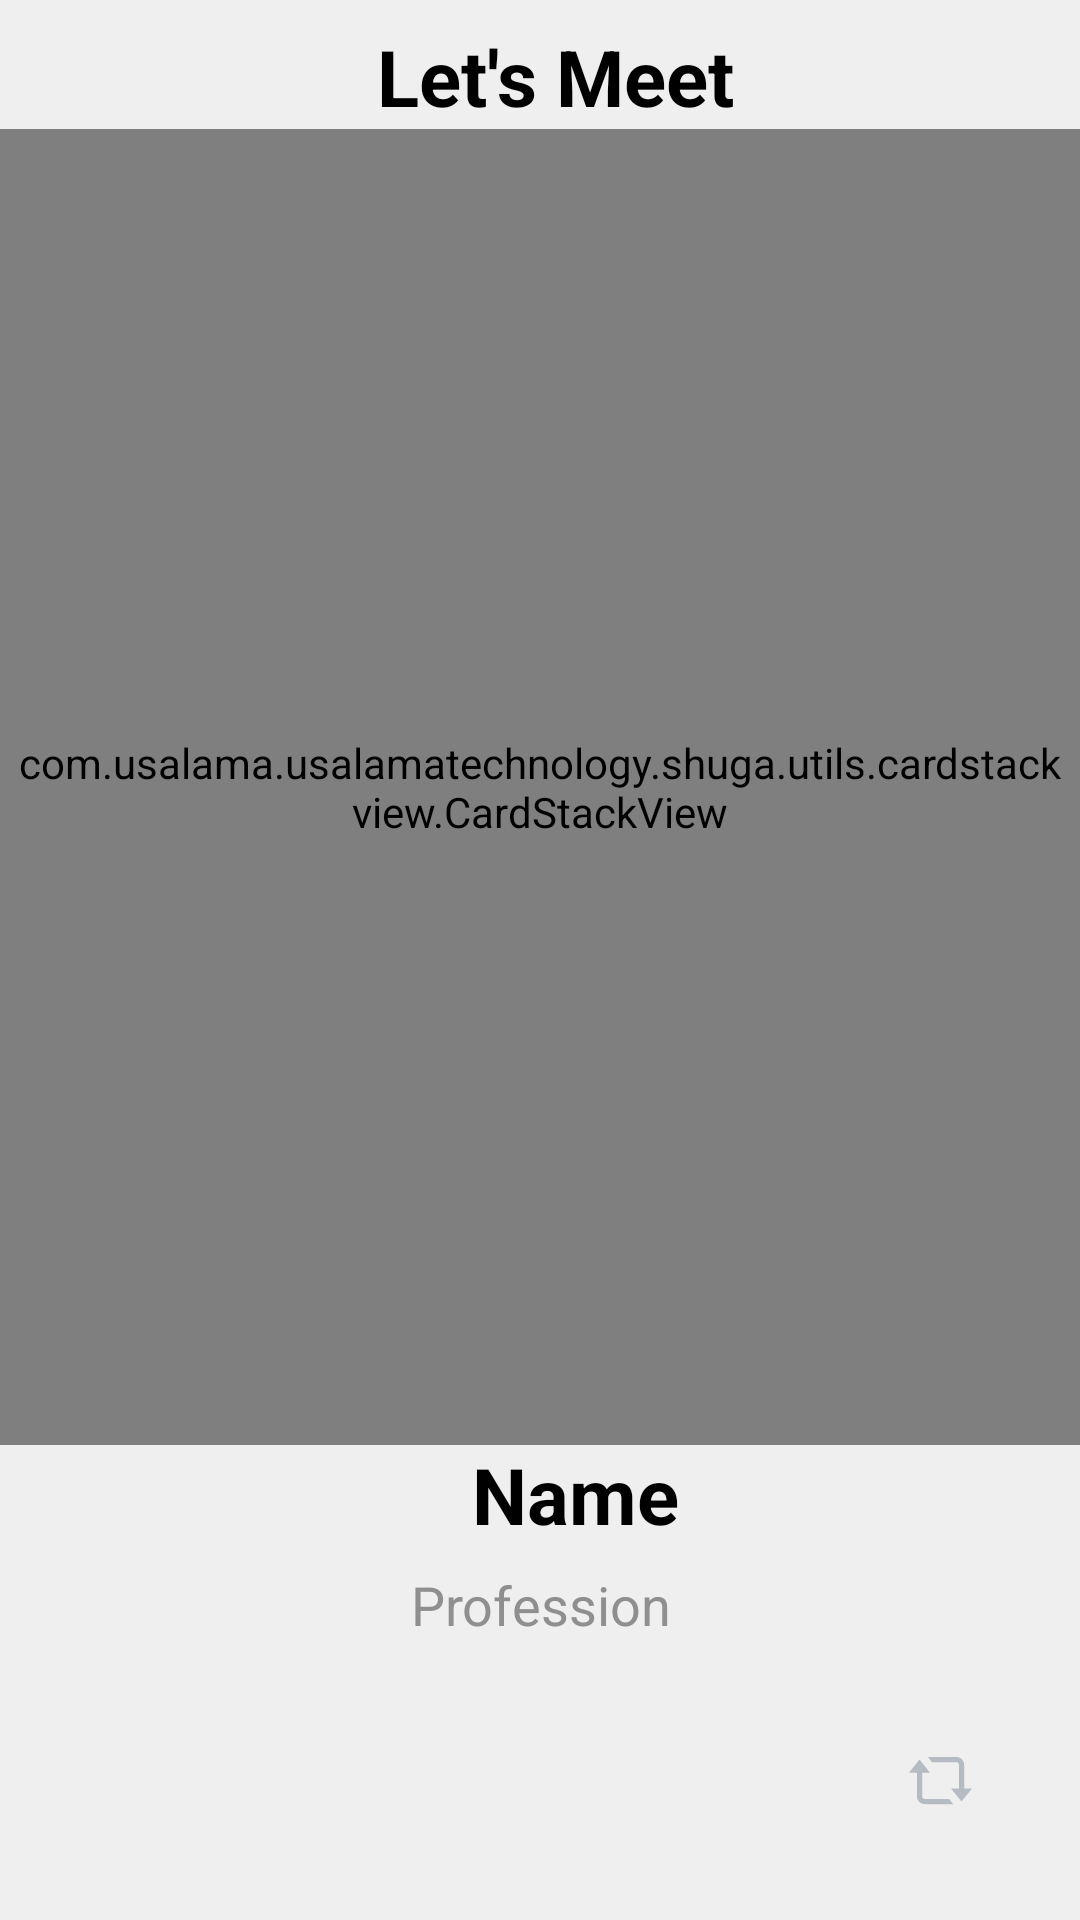

Icon bounding boxes for this 1080 × 1920 phone screenshot, format (x1, y1, x2, y2):
refresh: (909, 1757, 971, 1804)
